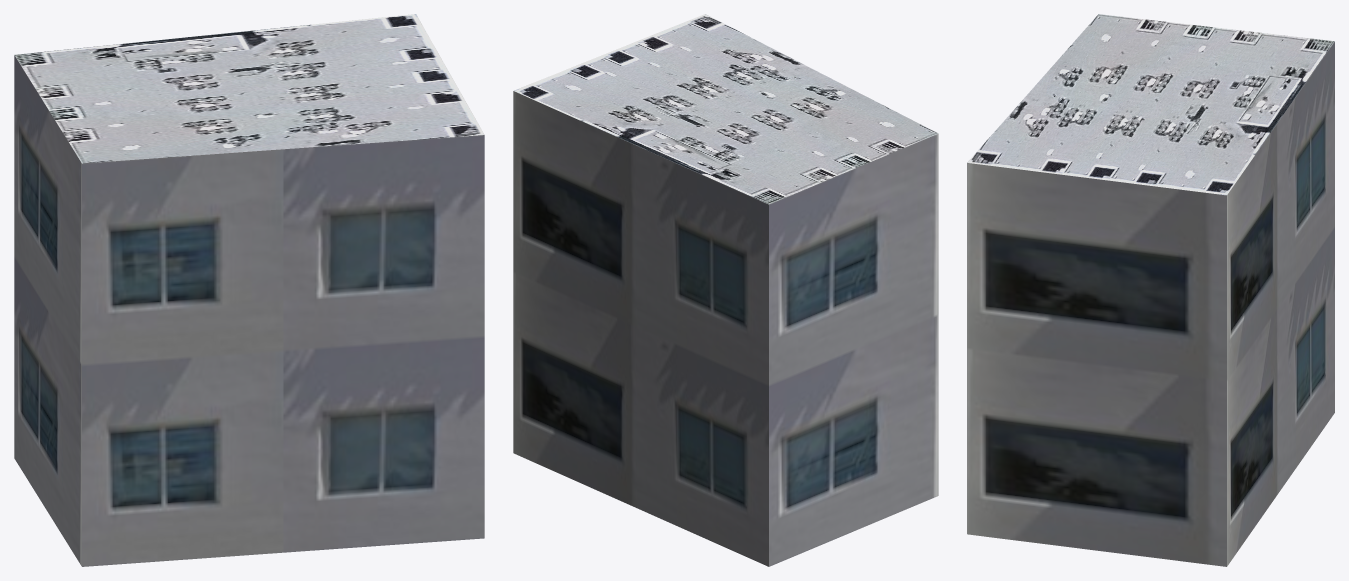
Rendered from ResTex__620.fbx.
The picture shows the model from 3 angles, left to right: view 1: azimuth 30°, elevation 25°; view 2: azimuth 150°, elevation 25°; view 3: azimuth 270°, elevation 25°; orthographic projection. The views are drawn at different scales.
Parts seen in each view (by area): view 1: CityEngineMaterial_10_m, CityEngineMaterial_4_m; view 2: CityEngineMaterial_10_m, CityEngineMaterial_4_m; view 3: CityEngineMaterial_10_m, CityEngineMaterial_4_m.
Boxes of the visible parts, x1,y1,x2,y2 form: CityEngineMaterial_10_m: (14, 55, 484, 566); CityEngineMaterial_4_m: (14, 14, 484, 163); CityEngineMaterial_10_m: (513, 91, 938, 566); CityEngineMaterial_4_m: (514, 14, 938, 204); CityEngineMaterial_10_m: (967, 41, 1334, 566); CityEngineMaterial_4_m: (967, 14, 1334, 195).
Size of the model in its own units: 6.29 by 6 by 5.39.
2 materials, 2 textured.
